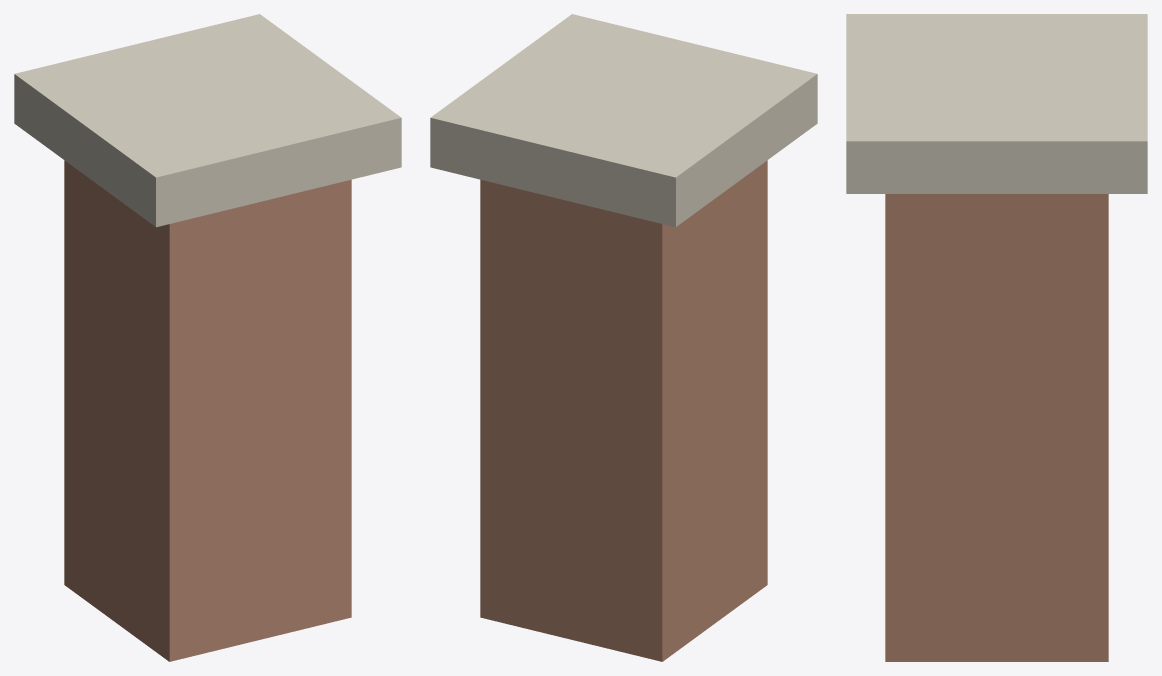
File: chimney-lod1.glb
3 renders of one model, left to right at view 1: azimuth 30°, elevation 25°; view 2: azimuth 150°, elevation 25°; view 3: azimuth 270°, elevation 25°, orthographic. The views are drawn at different scales.
Parts seen in each view (by area): view 1: shaft, cap; view 2: shaft, cap; view 3: shaft, cap.
Boxes of the visible parts, x1,y1,x2,y2 form: shaft: [64, 160, 351, 661]; cap: [14, 14, 401, 227]; shaft: [480, 160, 767, 661]; cap: [430, 14, 817, 227]; shaft: [885, 194, 1108, 661]; cap: [846, 14, 1147, 193].
Size of the model in its own units: 0.62 by 1.22 by 0.62.
